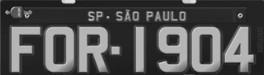placa_antiga: (1, 0, 263, 74)
